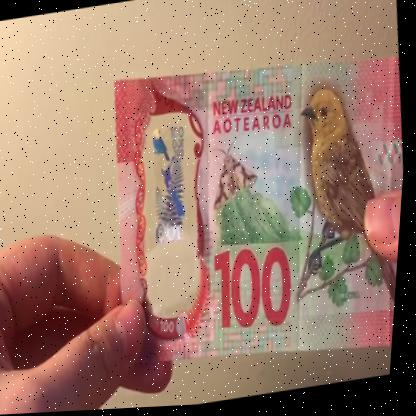100B: (138, 119, 210, 300)
